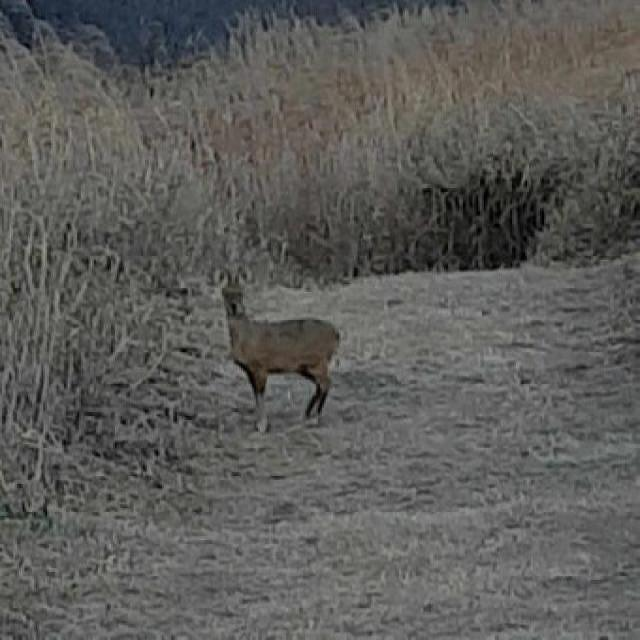deer: (186, 230, 346, 450)
